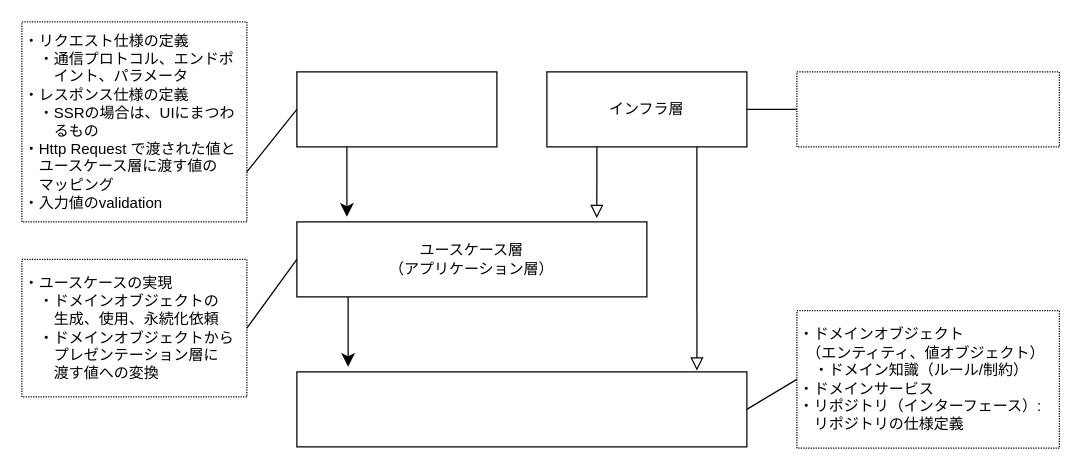
This 1081x470 diagram has some shape labels left out. The centre of each missing label's shape, as x and y in pixels:
ドメイン層: pixel 521 409
プレゼンテーション層 （UI層）: pixel 396 109
・リポジトリ（実装クラス）: ・ドメインオブジェクトの 永続化/検索の実装: pixel 927 109
